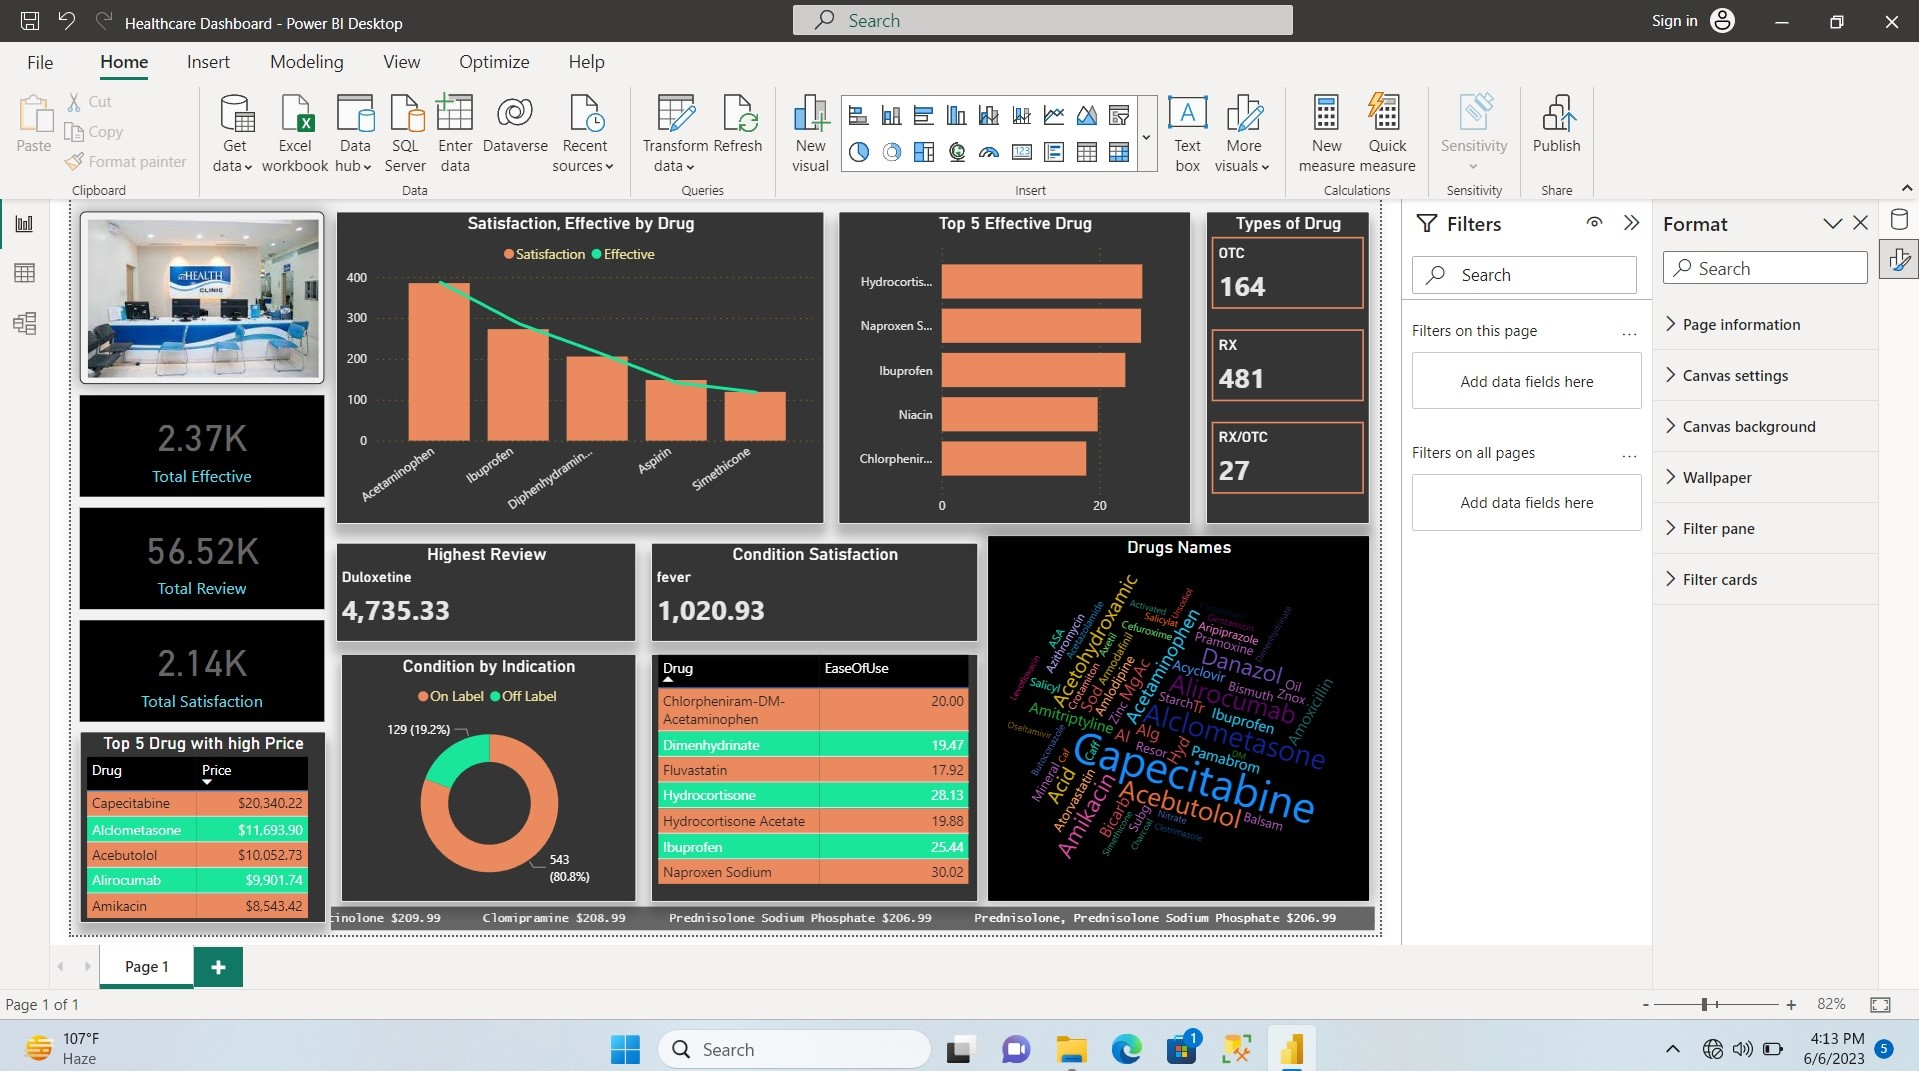

What the dashboard file says about the page in this screenshot:
{"tool":"powerbi","page":{"name":"Page 1","canvas":[1280,720],"ordinal":0},"visuals":[{"type":"image","box":[8.6,12.2,239.6,168.7],"z":0},{"type":"card","fields":{"Values":["All Measures.Total Effective"]},"box":[8.6,191.9,239.6,99],"z":1000},{"type":"card","fields":{"Values":["All Measures.Total Review"]},"box":[8.6,301.9,239.6,99],"z":2000},{"type":"card","fields":{"Values":["All Measures.Total Satisfaction"]},"box":[8.6,412,239.6,99],"z":3000},{"type":"tableEx","title":"Top 5 Drug with high Price","fields":{"Values":["Drug_clean condition.Drug","Sum(Drug_clean.Price)"]},"box":[8.6,520.7,240.8,187],"z":4000},{"type":"WordCloud1447959067750","title":"Drugs Names","fields":{"Category":["Drug_clean condition.Drug"],"Values":["Sum(Drug_clean.Price)"]},"box":[896,328.8,374.1,358.2],"z":5000},{"type":"ScrollingTextVisual1448795304508","fields":{"Category":["Drug_clean.Drug"],"Measure Absolute":["Sum(Drug_clean.Price)"]},"box":[249.4,687,1030.5,33],"z":6000},{"type":"donutChart","title":"Condition by Indication","fields":{"Category":["Drug_clean.Indication"],"Y":["CountNonNull(Drug_clean.Condition)"]},"box":[264,445,288.5,242],"z":7000},{"type":"multiRowCard","title":"Types of Drug","fields":{"Values":["Drug_clean.Type","CountNonNull(Drug_clean.Drug)"]},"box":[1109.9,12.2,160.1,305.6],"z":8000},{"type":"clusteredBarChart","title":"Top 5 Effective Drug","fields":{"Y":["Sum(Drug_clean.Effective)"],"Category":["Drug_clean.Drug"]},"box":[750.6,12.2,344.7,305.6],"z":9000},{"type":"tableEx","fields":{"Values":["Drug_clean.Drug","Sum(Drug_clean.EaseOfUse)"]},"box":[567.2,445,320.3,242],"z":10000},{"type":"multiRowCard","title":"Highest Review","fields":{"Values":["Drug_clean.Drug","Sum(Drug_clean.Reviews)"]},"box":[259.2,336.2,293.4,96.6],"z":11000},{"type":"lineStackedColumnComboChart","title":"Satisfaction, Effective by Drug","fields":{"Category":["Drug.Drug"],"Y":["Sum(Drug.Satisfaction)"],"Y2":["Sum(Drug.Effective)"]},"box":[259.2,12.2,478,305.6],"z":12000},{"type":"multiRowCard","title":"Condition Satisfaction","fields":{"Values":["Drug.Condition","Sum(Drug.Satisfaction)"]},"box":[567.2,336.2,320.3,96.6],"z":13000}]}

Visuals, with their boxes on the page's 1280x720 design canvas (x1, y1, x2, y2). These are canvas units, not pixel positions in the 1919x1071 screenshot, which may show the page scaled, cropped or inside an application window:
image: x1=9 y1=12 x2=248 y2=181
card - All Measures.Total Effective: x1=9 y1=192 x2=248 y2=291
card - All Measures.Total Review: x1=9 y1=302 x2=248 y2=401
card - All Measures.Total Satisfaction: x1=9 y1=412 x2=248 y2=511
"Top 5 Drug with high Price" tableEx: x1=9 y1=521 x2=249 y2=708
"Drugs Names" WordCloud1447959067750: x1=896 y1=329 x2=1270 y2=687
ScrollingTextVisual1448795304508 - Drug_clean.Drug x Sum(Drug_clean.Price): x1=249 y1=687 x2=1280 y2=720
"Condition by Indication" donutChart: x1=264 y1=445 x2=552 y2=687
"Types of Drug" multiRowCard: x1=1110 y1=12 x2=1270 y2=318
"Top 5 Effective Drug" clusteredBarChart: x1=751 y1=12 x2=1095 y2=318
tableEx - Drug_clean.Drug x Sum(Drug_clean.EaseOfUse): x1=567 y1=445 x2=888 y2=687
"Highest Review" multiRowCard: x1=259 y1=336 x2=553 y2=433
"Satisfaction, Effective by Drug" lineStackedColumnComboChart: x1=259 y1=12 x2=737 y2=318
"Condition Satisfaction" multiRowCard: x1=567 y1=336 x2=888 y2=433
